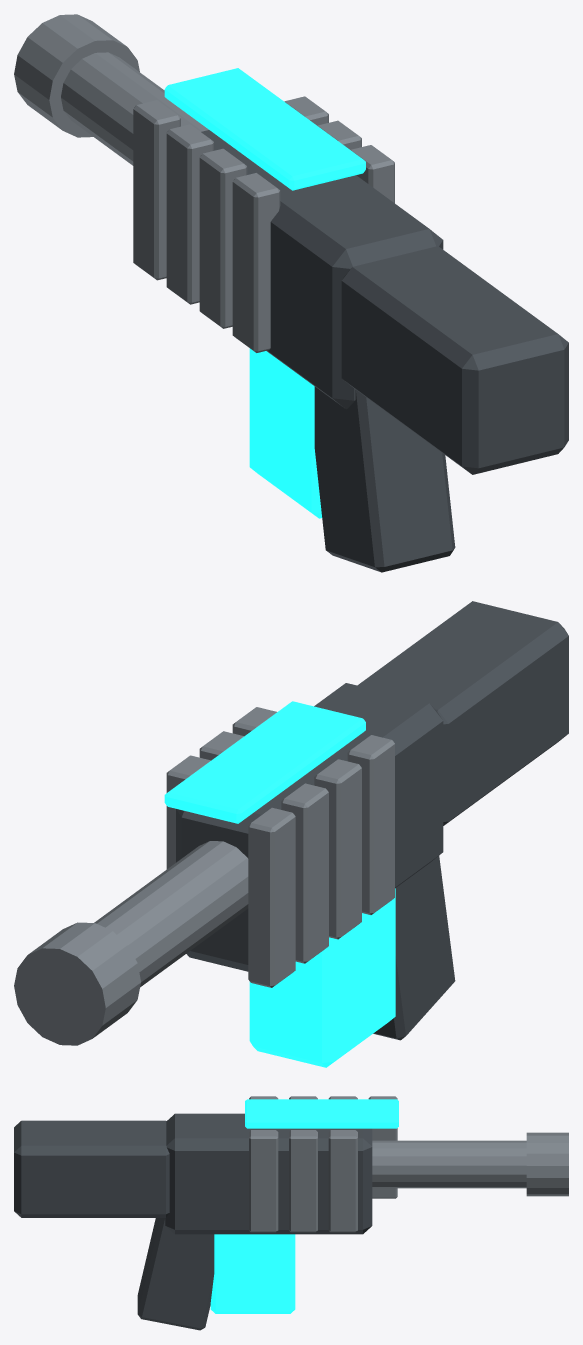
The model's file is WPN_LaserRifle_Fusion_FP_v01.glb.
3 views of the same model, one above another, from view 1: azimuth 30°, elevation 25°; view 2: azimuth 150°, elevation 25°; view 3: azimuth 270°, elevation 25° (orthographic). The views are drawn at different scales.
Parts seen in each view (by area): view 1: MESH_Weapon, MESH_CoolingFins, MESH_HeatSink, MESH_EnergyCell; view 2: MESH_Weapon, MESH_CoolingFins, MESH_EnergyCell, MESH_HeatSink; view 3: MESH_Weapon, MESH_CoolingFins, MESH_EnergyCell, MESH_HeatSink.
Part boxes in pixels (box(x1,y1,x2,y2)): MESH_Weapon: box(14, 14, 568, 572); MESH_CoolingFins: box(133, 96, 394, 352); MESH_HeatSink: box(164, 68, 365, 190); MESH_EnergyCell: box(249, 348, 322, 518); MESH_Weapon: box(14, 601, 568, 1045); MESH_CoolingFins: box(166, 707, 394, 987); MESH_EnergyCell: box(249, 888, 395, 1067); MESH_HeatSink: box(164, 701, 365, 823); MESH_Weapon: box(14, 1113, 568, 1330); MESH_CoolingFins: box(249, 1096, 397, 1232); MESH_EnergyCell: box(210, 1234, 295, 1313); MESH_HeatSink: box(245, 1099, 398, 1128).
Size of the model in its own units: 0.185 by 0.4382 by 1.04.
